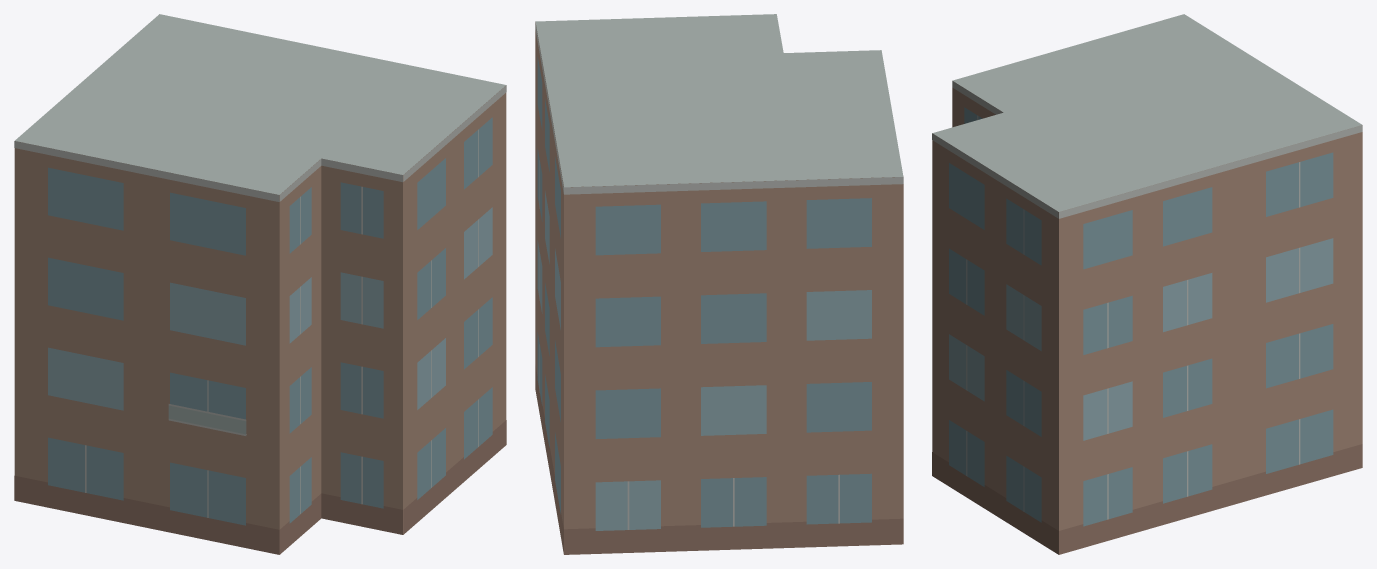
The model's file is residential-6b60dc96-ee11-4465-8b40-2f2b16eb5322.glb.
3 views of the same model, side by side, from view 1: azimuth 30°, elevation 25°; view 2: azimuth 150°, elevation 25°; view 3: azimuth 270°, elevation 25° (orthographic). The views are drawn at different scales.
Parts seen in each view (by area): view 1: residential-6b60dc96-ee11-4465-8b40-2f2b16eb5322.tmp; view 2: residential-6b60dc96-ee11-4465-8b40-2f2b16eb5322.tmp; view 3: residential-6b60dc96-ee11-4465-8b40-2f2b16eb5322.tmp.
Boxes of the visible parts, bbox=[...] form: residential-6b60dc96-ee11-4465-8b40-2f2b16eb5322.tmp: bbox=[14, 14, 506, 554]; residential-6b60dc96-ee11-4465-8b40-2f2b16eb5322.tmp: bbox=[535, 14, 903, 554]; residential-6b60dc96-ee11-4465-8b40-2f2b16eb5322.tmp: bbox=[932, 14, 1362, 554].
Size of the model in its own units: 15.13 by 12.2 by 13.89.
